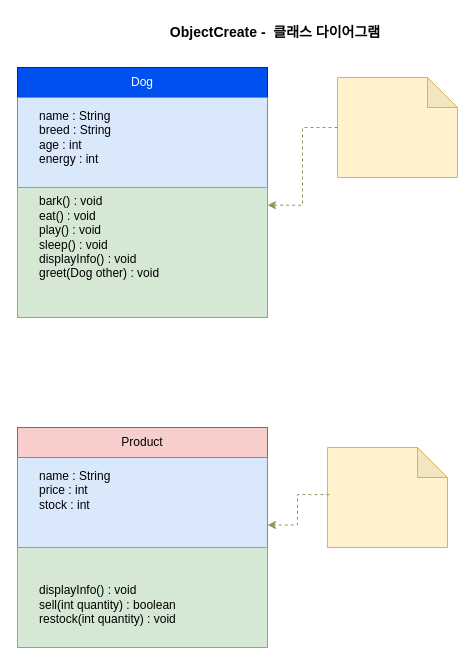
The diagram is 475 pixels wide and 665 high, and some of its shapes have lost their labels. Each missing label, with the centre of its shape:
"sell() 반환값 - true: 판매성공 - false: 재고 부족" goes at (x=387, y=497).
"에너지 시스템 - bark() : -5 - eat() : +20 - play() : -15 - sleep() : = 100" goes at (x=397, y=127).
